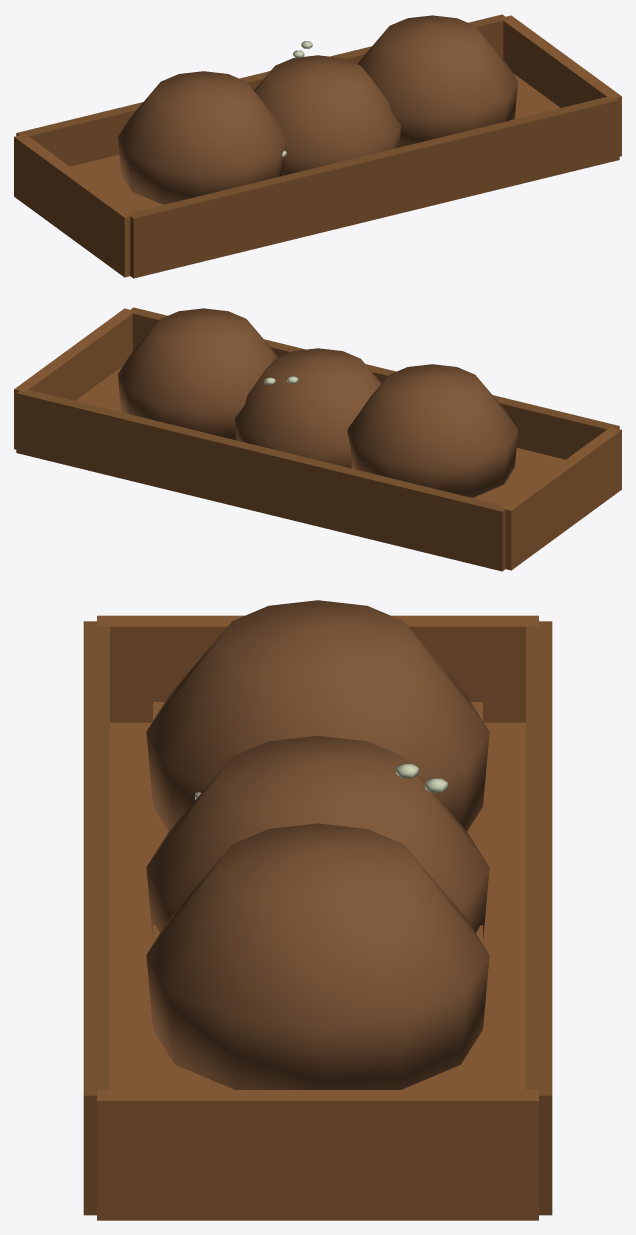
Rendered from Bread_Rye.fbx.
3 renders of one model, top to bottom at view 1: azimuth 30°, elevation 25°; view 2: azimuth 150°, elevation 25°; view 3: azimuth 270°, elevation 25°, orthographic. The views are drawn at different scales.
Parts seen in each view (by area): view 1: Bread_Rye__Stack, Bread_Rye; view 2: Bread_Rye__Stack, Bread_Rye; view 3: Bread_Rye__Stack, Bread_Rye.
Boxes of the visible parts, x1,y1,x2,y2 form: Bread_Rye__Stack: (14, 14, 621, 278); Bread_Rye: (254, 55, 400, 175); Bread_Rye__Stack: (14, 307, 621, 571); Bread_Rye: (235, 348, 381, 468); Bread_Rye__Stack: (83, 600, 552, 1220); Bread_Rye: (146, 735, 489, 940).
Bounding box in the file's own units: 0.348 × 0.08 × 0.142.
